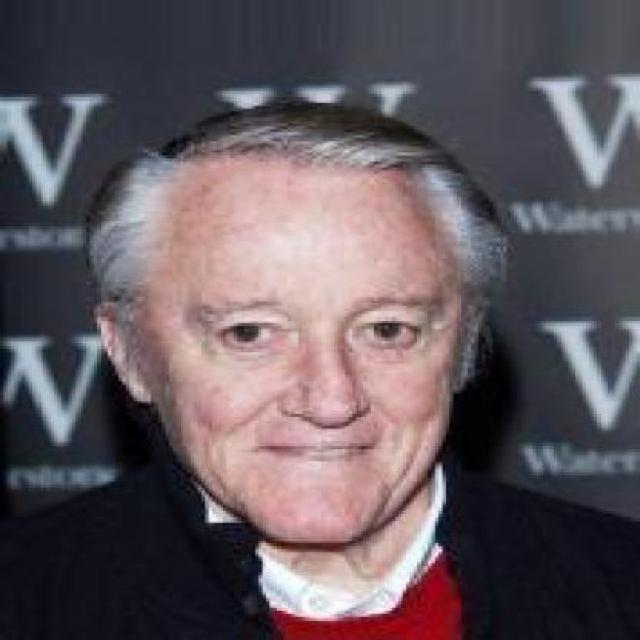closed-mouth: (256, 438, 375, 466)
